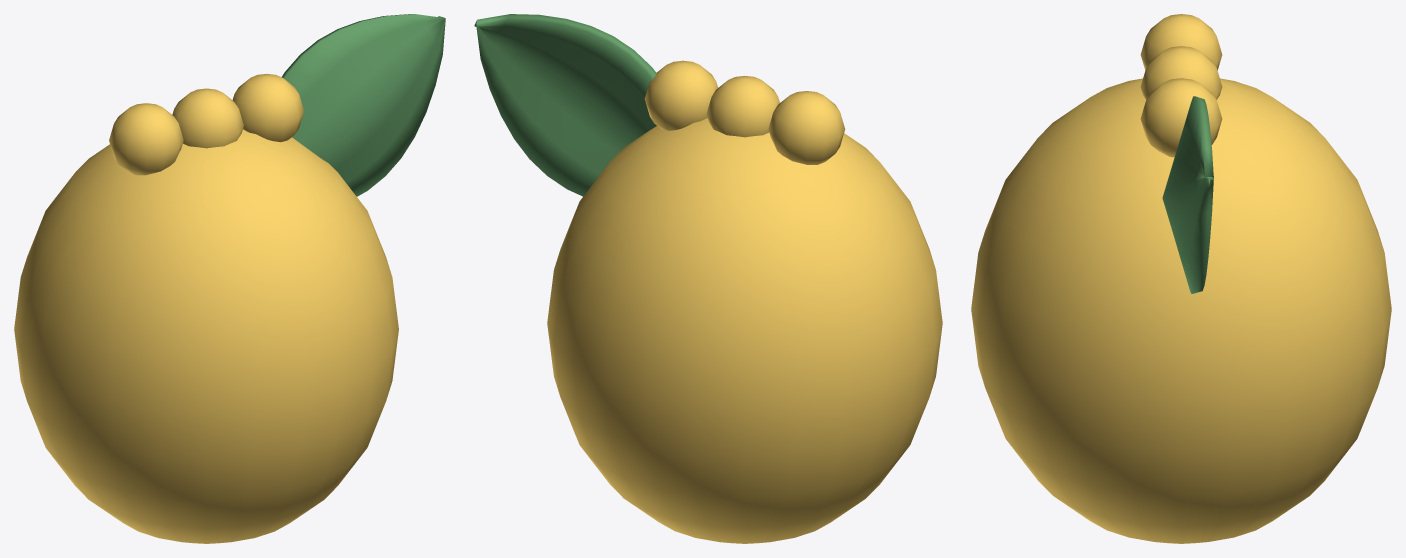
File: GoldenSeed.fbx
3 renders of one model, left to right at view 1: azimuth 30°, elevation 25°; view 2: azimuth 150°, elevation 25°; view 3: azimuth 270°, elevation 25°, orthographic. The views are drawn at different scales.
Parts seen in each view (by area): view 1: Golden seed, Seed wing.001, Golden seed crown, Golden seed crown.002, Golden seed crown.001; view 2: Golden seed, Seed wing.001, Golden seed crown, Golden seed crown.002, Golden seed crown.001; view 3: Golden seed, Seed wing.001, Golden seed crown.002, Golden seed crown, Golden seed crown.001.
Boxes of the visible parts, x1,y1,x2,y2 form: Golden seed: [14, 129, 398, 543]; Seed wing.001: [282, 14, 445, 196]; Golden seed crown: [109, 103, 183, 175]; Golden seed crown.002: [232, 73, 303, 142]; Golden seed crown.001: [172, 88, 243, 148]; Golden seed: [547, 118, 942, 543]; Seed wing.001: [474, 14, 656, 196]; Golden seed crown: [768, 91, 845, 164]; Golden seed crown.002: [644, 60, 718, 130]; Golden seed crown.001: [706, 76, 779, 137]; Golden seed: [971, 78, 1391, 543]; Seed wing.001: [1162, 96, 1213, 293]; Golden seed crown.002: [1140, 78, 1222, 157]; Golden seed crown: [1140, 14, 1222, 70]; Golden seed crown.001: [1140, 46, 1222, 99].
Size of the model in its own units: 45 by 47.7 by 36.
